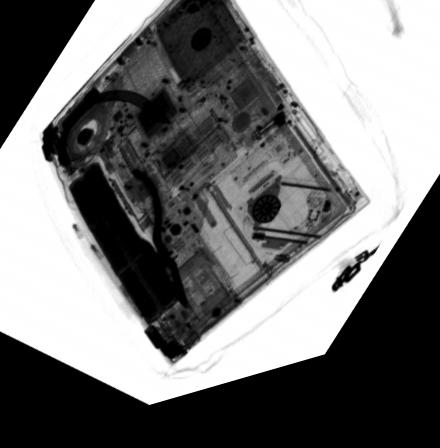Pliers: (87, 173, 192, 319)
